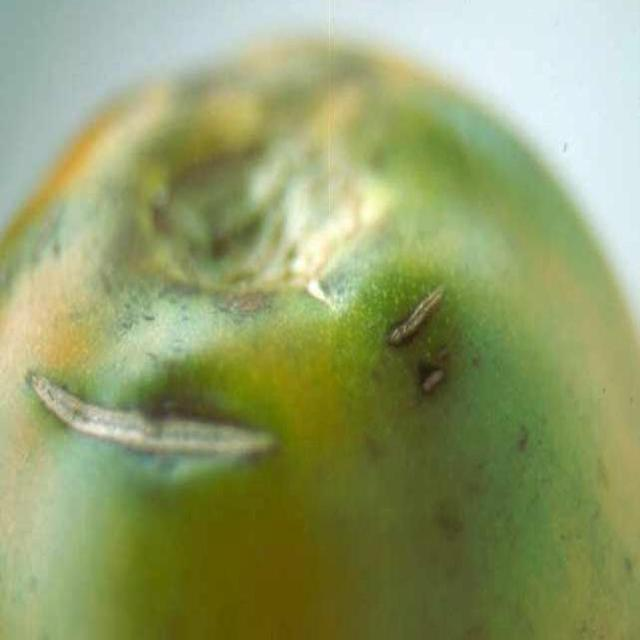Cracking Fruit: (37, 27, 293, 283)
